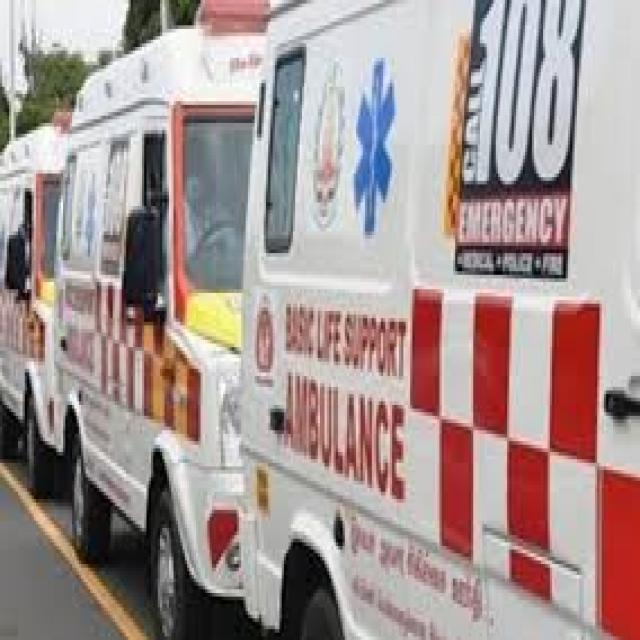Ambulance: (259, 11, 640, 640), (61, 4, 257, 632)
